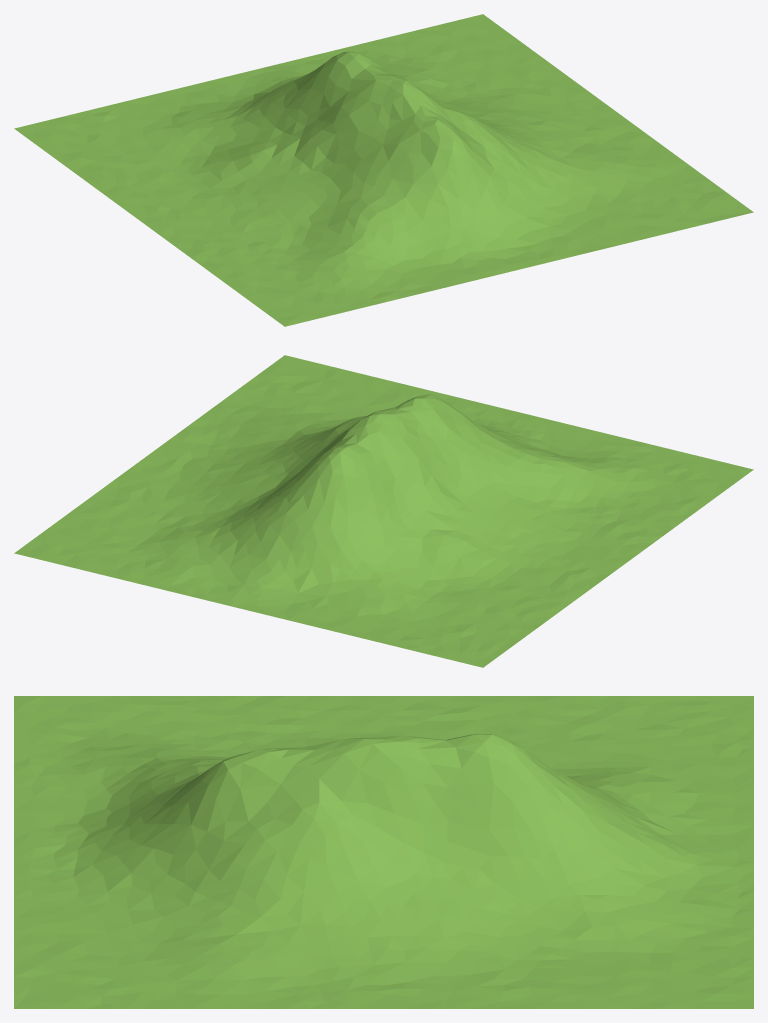
File: MT_Terrain_L_a_30_LOD.fbx
3 views of the same model, one above another, from view 1: azimuth 30°, elevation 25°; view 2: azimuth 150°, elevation 25°; view 3: azimuth 270°, elevation 25° (orthographic). The views are drawn at different scales.
Visible parts, largest first — view 1: MT_Terrain_L_a_30_LOD0; view 2: MT_Terrain_L_a_30_LOD0; view 3: MT_Terrain_L_a_30_LOD0.
Part boxes in pixels (x1,y1,x2,y2): MT_Terrain_L_a_30_LOD0: (14,14,753,326); MT_Terrain_L_a_30_LOD0: (14,355,753,667); MT_Terrain_L_a_30_LOD0: (14,696,753,1008).
Size of what is drawn, in the model's own units: 10000 by 1820 by 10000.
